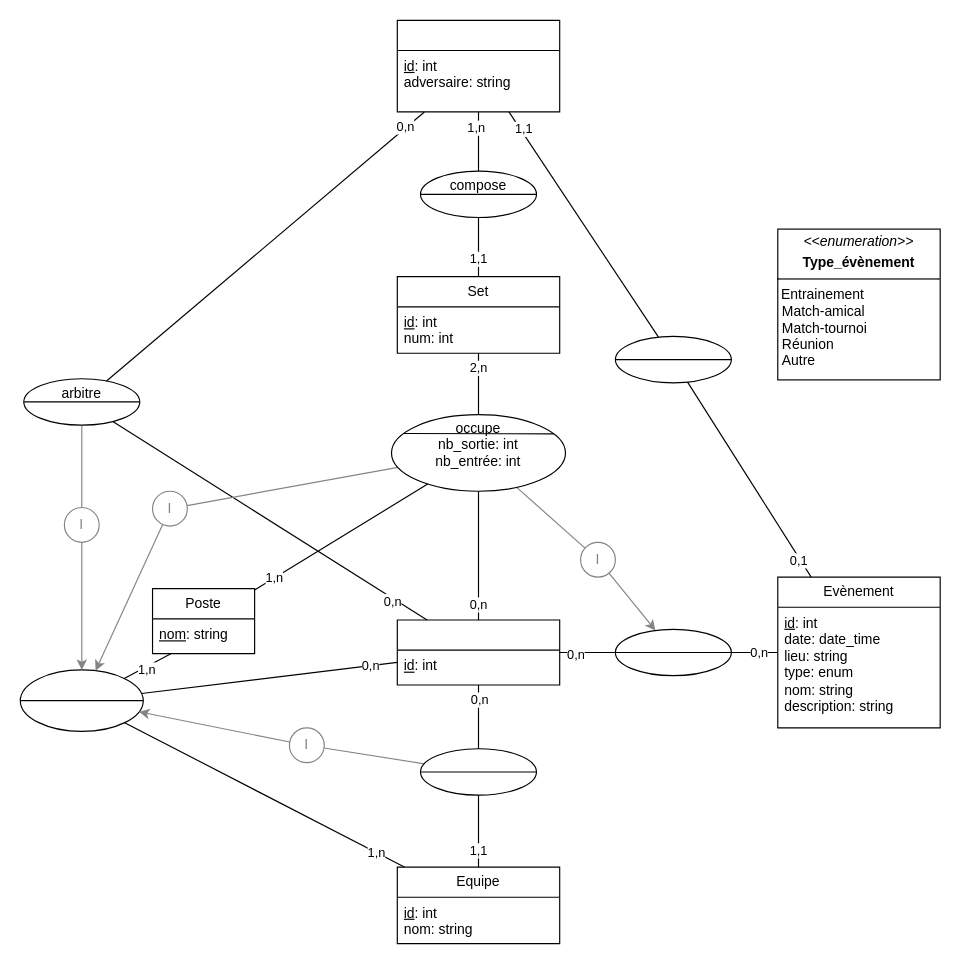
The diagram is 960 pixels wide and 967 high, and some of its shapes have lost their labels. The box of each missing label's shape, as (x1, y1, x2, y2) in pixels:
a-lieu: (614, 335, 731, 383)
appartient poste: enum: (19, 669, 143, 731)
est-capitaine: (419, 748, 536, 795)
Match: (396, 19, 560, 112)
participe: (614, 628, 731, 676)
User: (396, 619, 560, 685)
